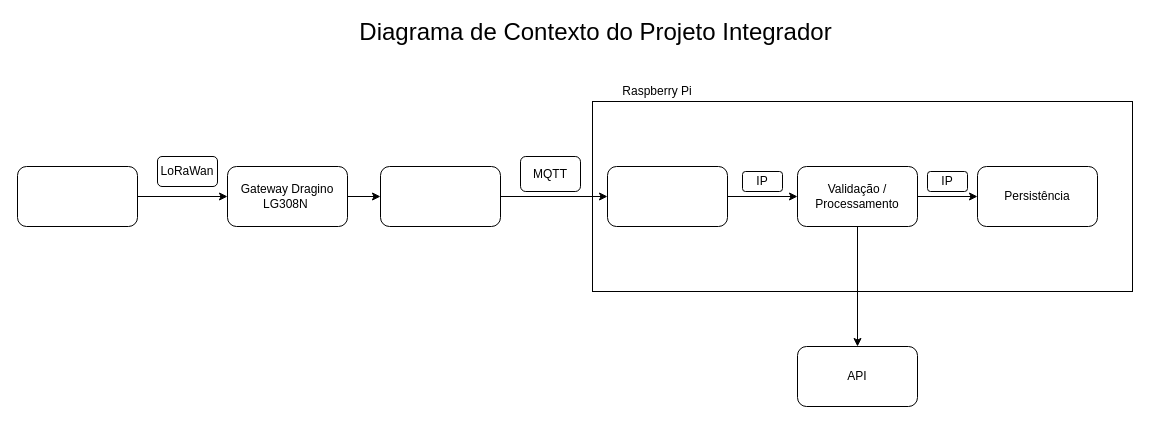
Image size: 1150x424. Some labels were removed from this diagram. Here are the shapes that lost their labels. From the top down, the box of each, then its label:
(16, 166, 138, 226): Sensor HKT IAQ-900 EU868
(380, 166, 500, 226): The Things Network
(606, 166, 728, 226): Consumidor Python
